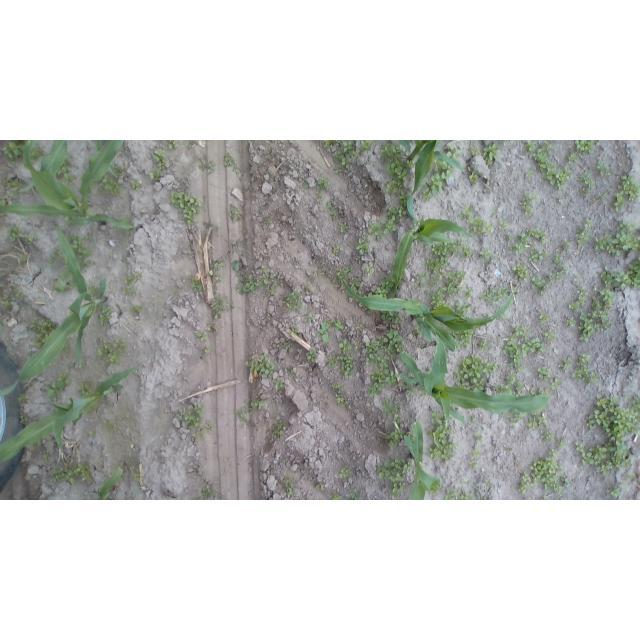Maize: (0, 229, 108, 397), (343, 277, 520, 375), (393, 336, 553, 429), (1, 366, 140, 464), (1, 140, 136, 230), (393, 213, 476, 295), (399, 140, 465, 220), (403, 421, 441, 500), (15, 141, 69, 191), (97, 467, 123, 500)
Weeds: (576, 394, 640, 479), (421, 241, 472, 307), (526, 140, 570, 189), (380, 142, 409, 216), (363, 338, 395, 400), (519, 449, 560, 494), (579, 289, 613, 343), (507, 327, 546, 374), (591, 220, 640, 255), (375, 455, 412, 500), (453, 355, 495, 394), (427, 407, 457, 461), (377, 396, 404, 446), (599, 259, 640, 289), (169, 191, 203, 225), (365, 205, 397, 241), (507, 226, 548, 254), (573, 352, 600, 385), (615, 173, 636, 215), (460, 206, 492, 233), (51, 464, 90, 486), (244, 355, 275, 382), (325, 354, 356, 379), (530, 271, 565, 293), (97, 338, 128, 362), (430, 161, 453, 192), (46, 371, 71, 398), (0, 284, 26, 309), (496, 372, 521, 397), (477, 284, 507, 304), (381, 329, 404, 354), (574, 216, 593, 246), (570, 276, 586, 310), (550, 237, 568, 266), (70, 233, 91, 257), (262, 269, 279, 298), (184, 402, 204, 426), (209, 294, 225, 322), (54, 266, 71, 292), (47, 246, 66, 269), (521, 190, 539, 214), (236, 399, 253, 424), (283, 292, 304, 312), (97, 177, 119, 196), (190, 420, 212, 439), (241, 274, 263, 293), (374, 277, 395, 296), (29, 317, 55, 332), (501, 410, 524, 426), (1, 141, 20, 160), (575, 171, 593, 191), (201, 480, 218, 501), (482, 145, 498, 167), (124, 269, 142, 287), (198, 156, 215, 175), (557, 351, 571, 373), (2, 180, 20, 197), (527, 413, 546, 429), (335, 152, 352, 169), (268, 419, 284, 437), (595, 159, 610, 178), (320, 320, 331, 345), (282, 476, 295, 497), (512, 262, 529, 278), (527, 249, 546, 263), (154, 147, 166, 169), (574, 140, 596, 152), (380, 311, 402, 323), (354, 238, 370, 254), (210, 259, 224, 277), (453, 331, 472, 344), (476, 247, 492, 262), (100, 307, 112, 327), (228, 204, 240, 224), (591, 193, 606, 208), (445, 145, 462, 158), (454, 300, 471, 313), (188, 276, 201, 292), (9, 225, 22, 241), (274, 377, 287, 393), (459, 485, 472, 500), (469, 450, 481, 466), (358, 141, 375, 152), (222, 153, 235, 167), (464, 144, 478, 157), (286, 367, 298, 382), (325, 203, 337, 218), (35, 332, 46, 348), (251, 398, 267, 409), (473, 484, 483, 501), (336, 395, 349, 408), (348, 487, 361, 500), (563, 315, 577, 327), (443, 488, 457, 500), (362, 264, 375, 276), (349, 278, 362, 290), (608, 484, 621, 496), (338, 466, 350, 479), (122, 285, 135, 297), (331, 382, 345, 393), (306, 349, 317, 363), (112, 164, 124, 176), (129, 304, 141, 316), (541, 428, 553, 440), (339, 339, 351, 351), (26, 232, 37, 245), (543, 329, 556, 340), (339, 141, 353, 151), (77, 383, 91, 393), (530, 387, 549, 394), (129, 178, 140, 190), (411, 328, 422, 340), (562, 473, 571, 487), (422, 187, 431, 201), (195, 331, 207, 341), (337, 223, 347, 234), (31, 147, 41, 158), (549, 375, 560, 385), (149, 169, 159, 180), (538, 367, 549, 377), (465, 286, 476, 296), (305, 311, 314, 323), (20, 414, 28, 427), (476, 340, 486, 350), (469, 173, 479, 183), (334, 318, 343, 329), (17, 393, 28, 402), (555, 441, 566, 450), (79, 260, 93, 267), (64, 174, 76, 182), (132, 470, 140, 482), (472, 433, 484, 441), (168, 140, 180, 148), (568, 152, 580, 160), (330, 493, 343, 500), (323, 141, 336, 148), (317, 186, 322, 203), (206, 323, 215, 332), (318, 176, 327, 185), (350, 148, 359, 157), (231, 260, 239, 270), (284, 341, 292, 351), (539, 313, 549, 321), (178, 408, 184, 421), (523, 171, 534, 178), (332, 248, 341, 256), (499, 221, 507, 230), (491, 210, 499, 219), (354, 342, 362, 351), (58, 168, 67, 176), (470, 415, 475, 429), (42, 454, 50, 462), (336, 272, 344, 280), (590, 281, 599, 288), (201, 347, 210, 354), (88, 429, 95, 437), (305, 284, 313, 291), (317, 484, 325, 491), (505, 232, 512, 240), (355, 324, 363, 331), (263, 218, 270, 226), (340, 265, 349, 271), (173, 287, 180, 294), (293, 327, 300, 334), (504, 448, 513, 453), (538, 496, 546, 501), (484, 482, 492, 487), (103, 419, 109, 425), (334, 169, 342, 173), (1, 200, 7, 205)
